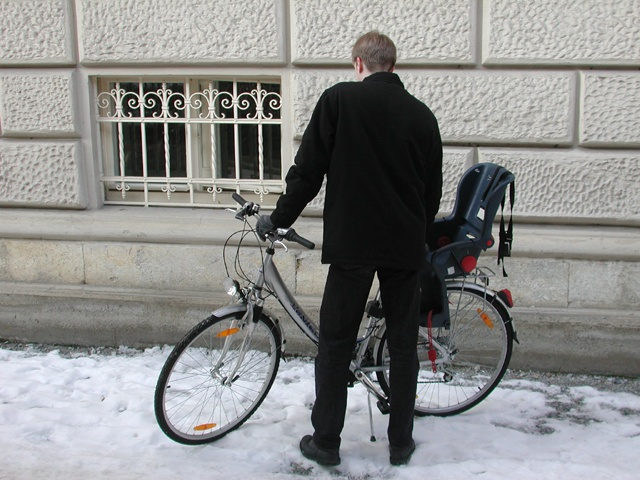person: (253, 34, 446, 469)
